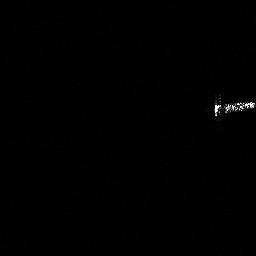ship: (214, 100, 256, 114)
